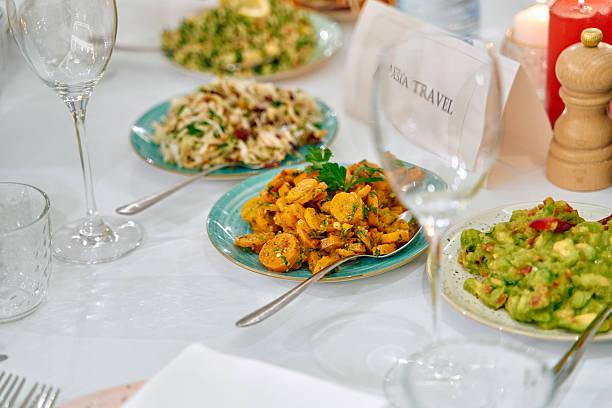Braised Crucian Carp: (207, 160, 432, 282), (434, 201, 611, 341), (124, 79, 341, 183)
